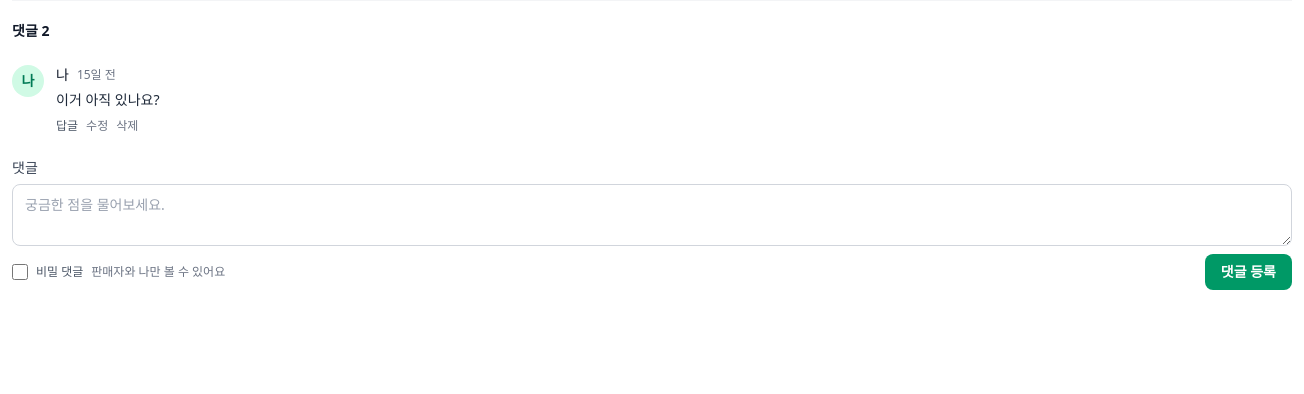
Test case: CommentSection › 고치는 동안에는 답글·삭제 버튼을 감춘다
What coordinates should you click on to do the following:
click the button "수정"
I would click on:
 (97, 126)
Its box is [86,118,108,134].
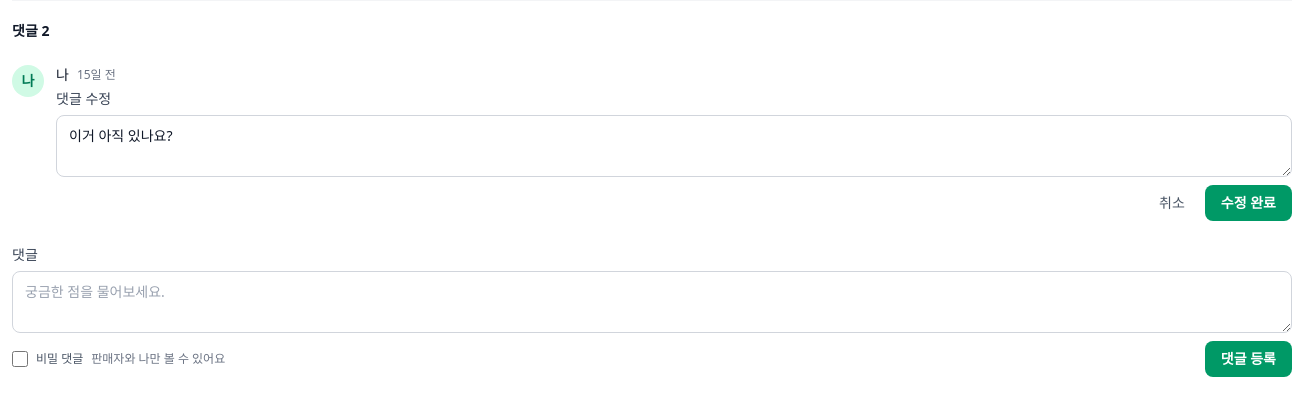
Result: the button "답글" is gone
Result: the button "삭제" is gone
What coordinates should you click on to do the following:
click the button "취소"
I would click on:
 (1172, 203)
Its box is [1147,185,1197,221].
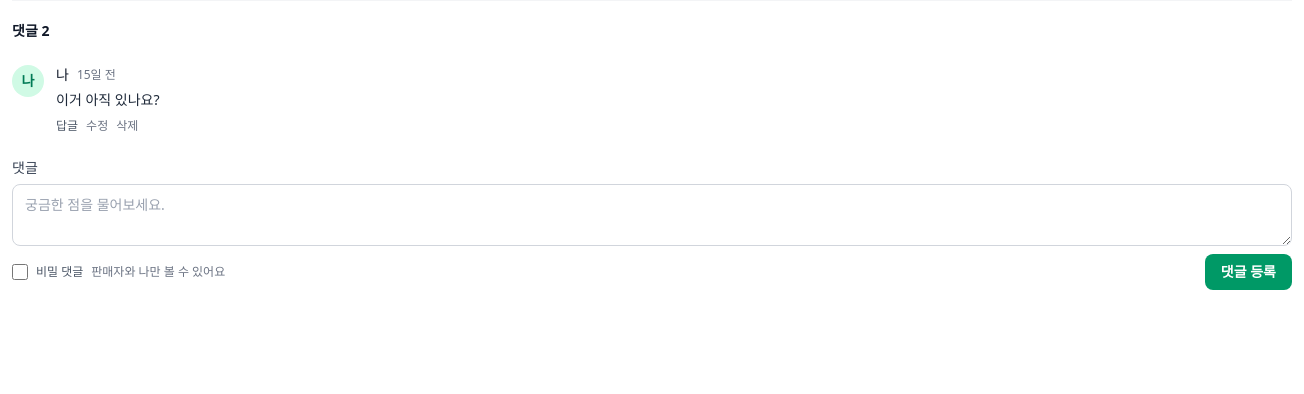
Result: the button "답글" is shown at [56,118,78,134]
